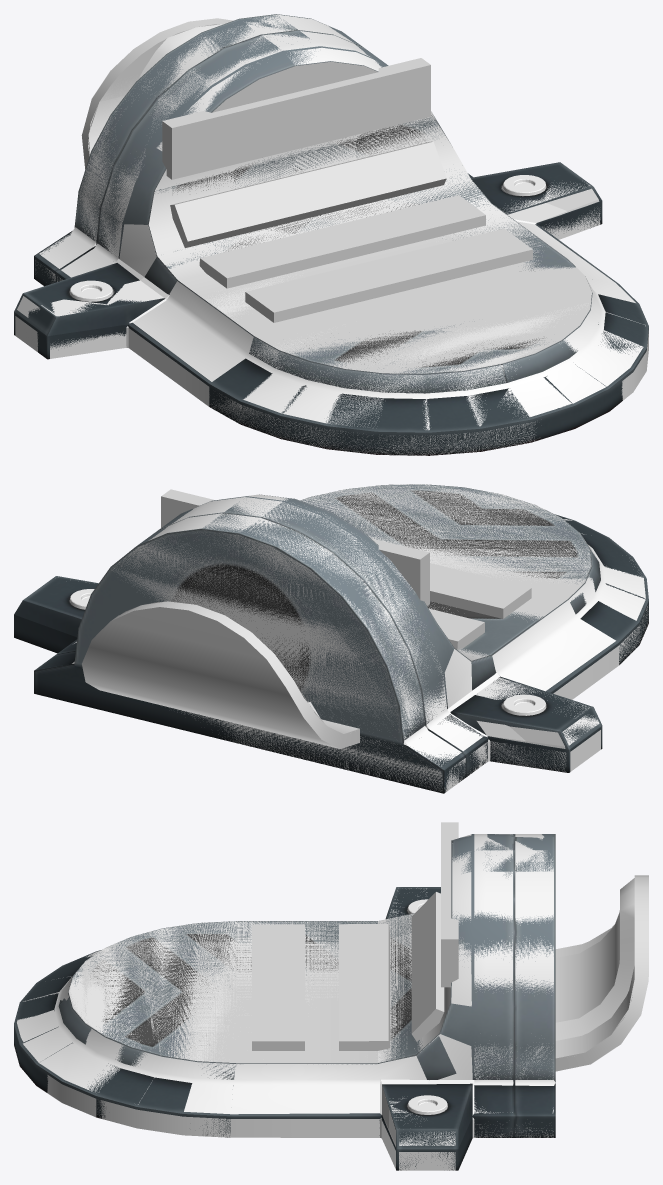
The model's file is Jumpad Concept01.fbx.
3 views of the same model, one above another, from view 1: azimuth 30°, elevation 25°; view 2: azimuth 150°, elevation 25°; view 3: azimuth 270°, elevation 25° (orthographic). The views are drawn at different scales.
Parts seen in each view (by area): view 1: Jumppad1, Circle06, HIGH, Circle05, Circle02, Circle01, Circle03; view 2: Jumppad1, HIGH, Circle02, Circle05, Circle06; view 3: HIGH, Jumppad1, Circle06, Circle05, Circle03, Circle02.
Part boxes in pixels (<box>): Jumppad1: <box>14,14,648,455</box>; Circle06: <box>149,58,590,371</box>; HIGH: <box>15,14,648,455</box>; Circle05: <box>149,61,591,373</box>; Circle02: <box>81,18,232,169</box>; Circle01: <box>88,24,219,155</box>; Circle03: <box>88,24,223,150</box>; Jumppad1: <box>14,484,648,793</box>; HIGH: <box>69,484,648,792</box>; Circle02: <box>82,601,359,748</box>; Circle05: <box>301,484,591,660</box>; Circle06: <box>161,484,590,659</box>; HIGH: <box>17,834,555,1170</box>; Jumppad1: <box>14,834,555,1170</box>; Circle06: <box>69,822,458,1061</box>; Circle05: <box>68,914,450,1063</box>; Circle03: <box>555,878,634,1057</box>; Circle02: <box>555,875,648,1071</box>.
Bounding box in the file's own units: 138 × 49.86 × 147.
